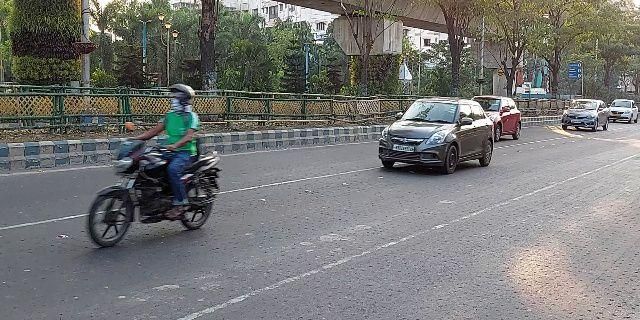Car: (376, 93, 495, 174), (470, 95, 523, 143), (559, 97, 610, 132), (608, 97, 638, 126)
Motorbike: (84, 82, 225, 252)
